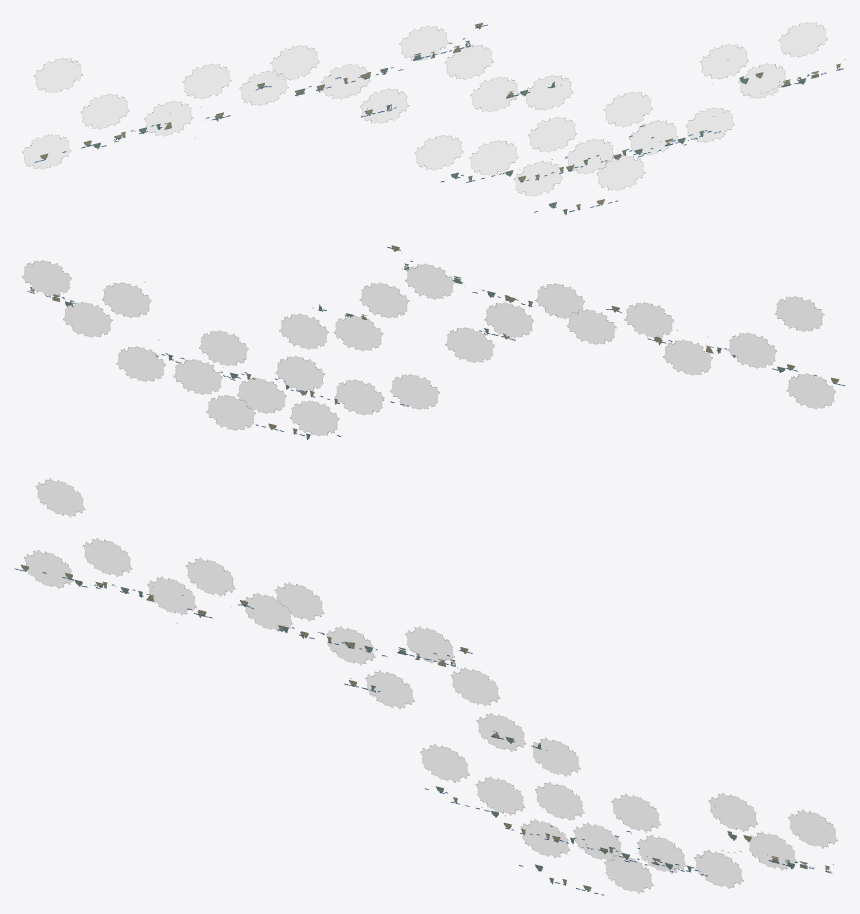
Rendered from island01_bg.glb.
The picture shows the model from 3 angles, top to bottom: view 1: azimuth 30°, elevation 25°; view 2: azimuth 150°, elevation 25°; view 3: azimuth 330°, elevation 25°; orthographic projection.
Visible parts, largest first — view 1: island01_bg; view 2: island01_bg; view 3: island01_bg.
Boxes of the visible parts, <box> form: island01_bg: <box>22,22,845,215</box>; island01_bg: <box>22,245,844,439</box>; island01_bg: <box>14,478,837,895</box>.
Size of the model in its own units: 5948 by 1875 by 298.
9 materials, 8 textured.
